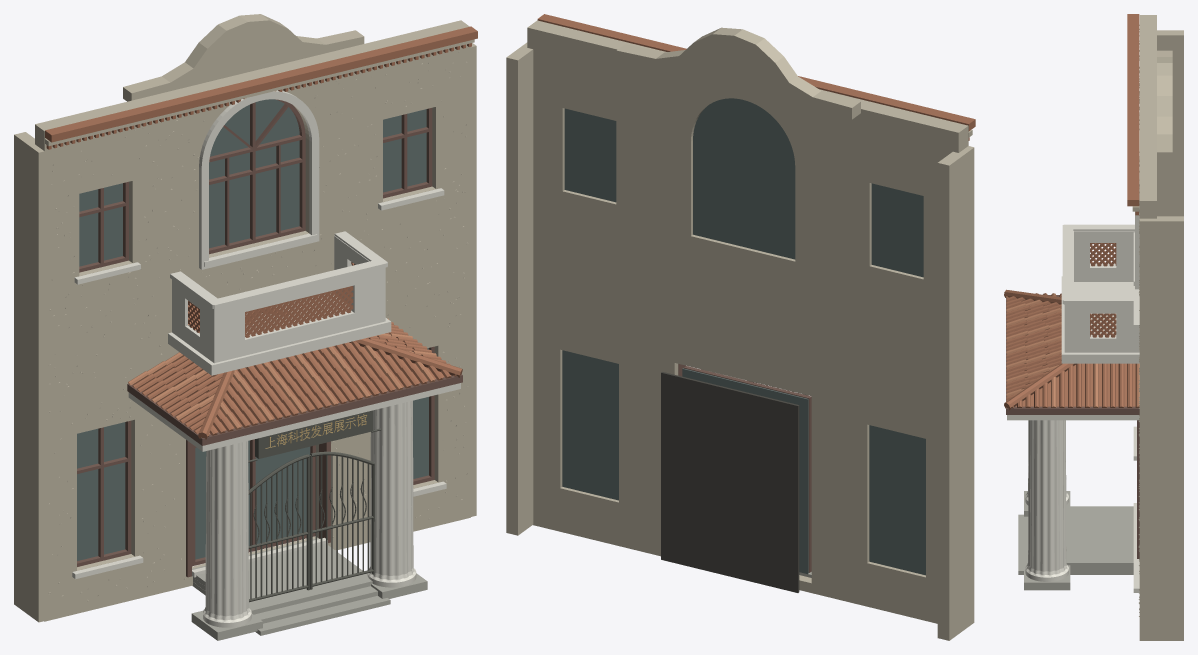
Rendered from nanchang-portico-near.glb.
The picture shows the model from 3 angles, left to right: view 1: azimuth 30°, elevation 25°; view 2: azimuth 150°, elevation 25°; view 3: azimuth 270°, elevation 25°; orthographic projection. The views are drawn at different scales.
Parts seen in each view (by area): view 1: 法国体育总会南昌路门廊与券窗阳台; view 2: 法国体育总会南昌路门廊与券窗阳台; view 3: 法国体育总会南昌路门廊与券窗阳台.
Boxes of the visible parts, x1,y1,x2,y2 form: 法国体育总会南昌路门廊与券窗阳台: (14,14,477,640); 法国体育总会南昌路门廊与券窗阳台: (506,14,975,640); 法国体育总会南昌路门廊与券窗阳台: (1004,14,1183,640).
Size of the model in its own units: 7.56 by 8.93 by 3.01.
